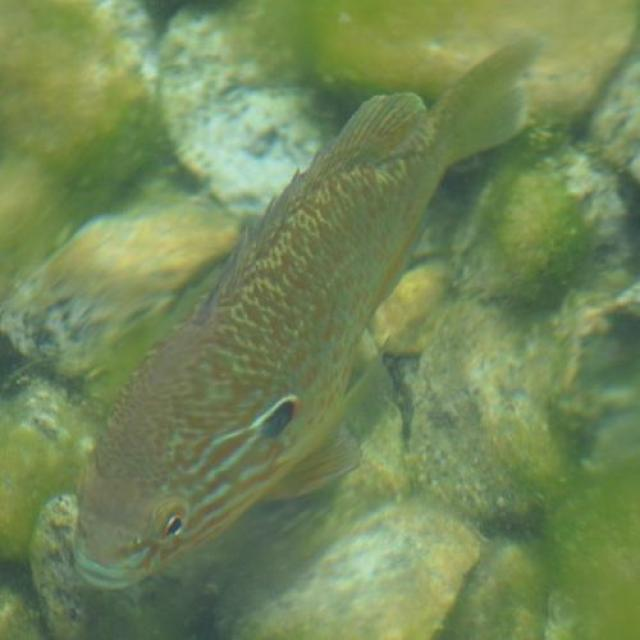Gunes Levregi: (72, 32, 543, 603)
